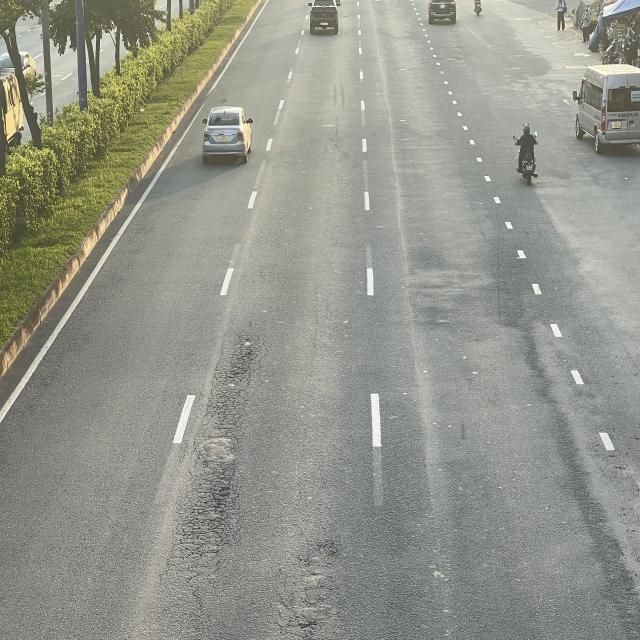car: (200, 108, 252, 164)
van: (575, 61, 640, 153)
